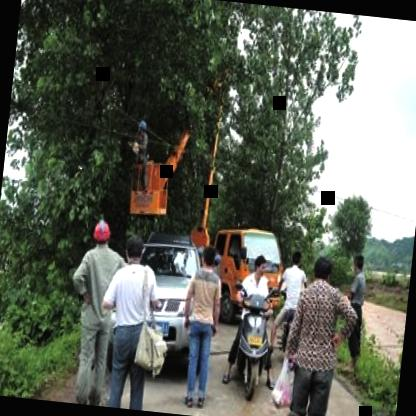head: (308, 251, 335, 289), (120, 234, 148, 270), (196, 241, 218, 272), (349, 249, 368, 276), (250, 254, 268, 278), (286, 247, 304, 270)
helmet: (91, 218, 112, 249), (136, 118, 147, 138)
